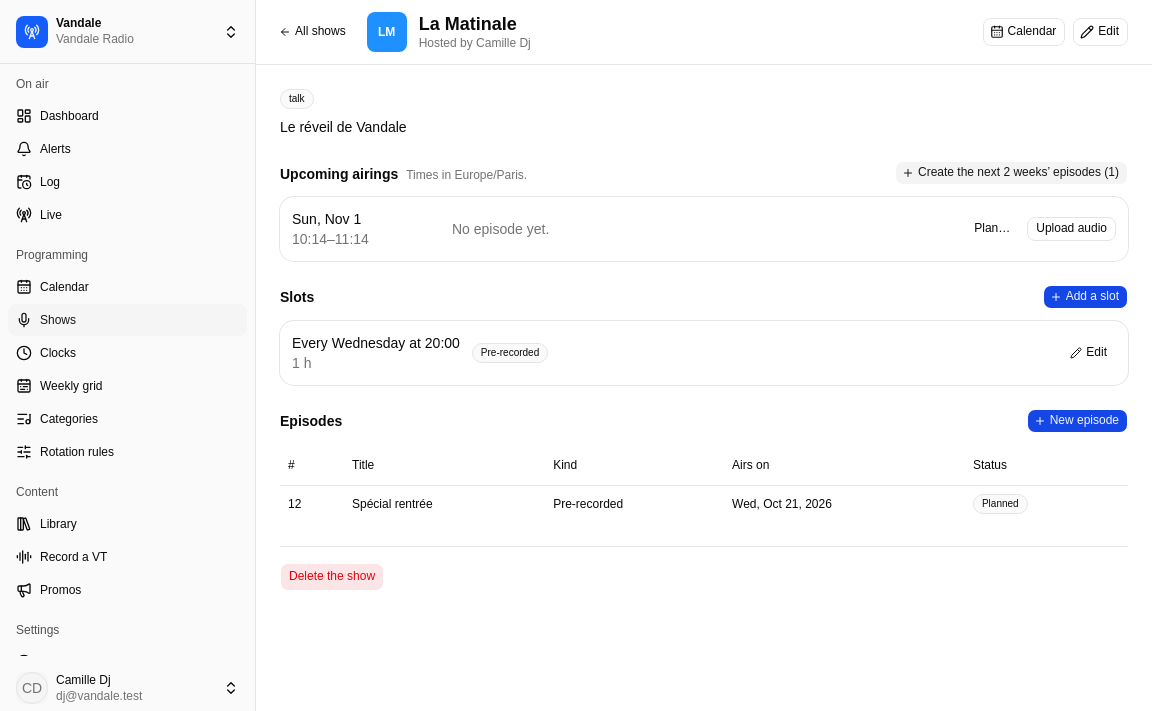
show page › warns when a slot edit detaches episodes, and lists them to plan again
Expected: the text "Every Wednesday at 20:00" is shown, [292,333,460,353]
Click the button "Edit" in the row of "Every Wednesday at 20:00". click: (1090, 353)
box: [1063,341,1116,365]
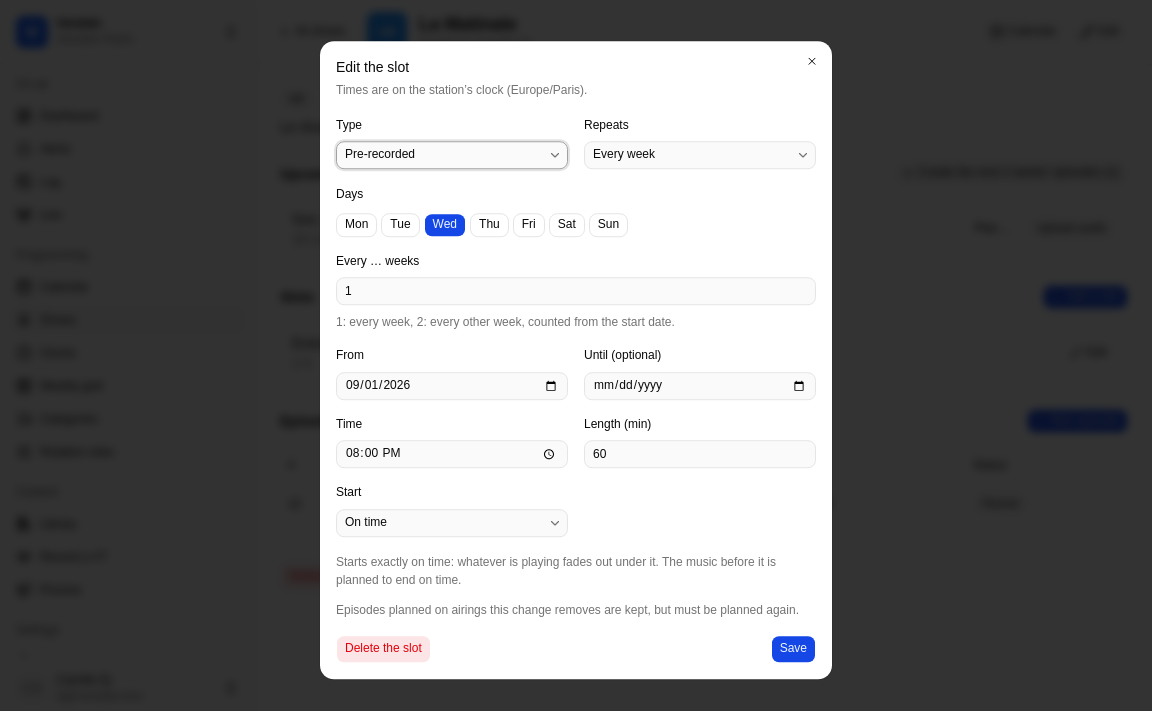
Click the button with aria-label "Wednesday". click: (445, 225)
box: [424,213,466,237]
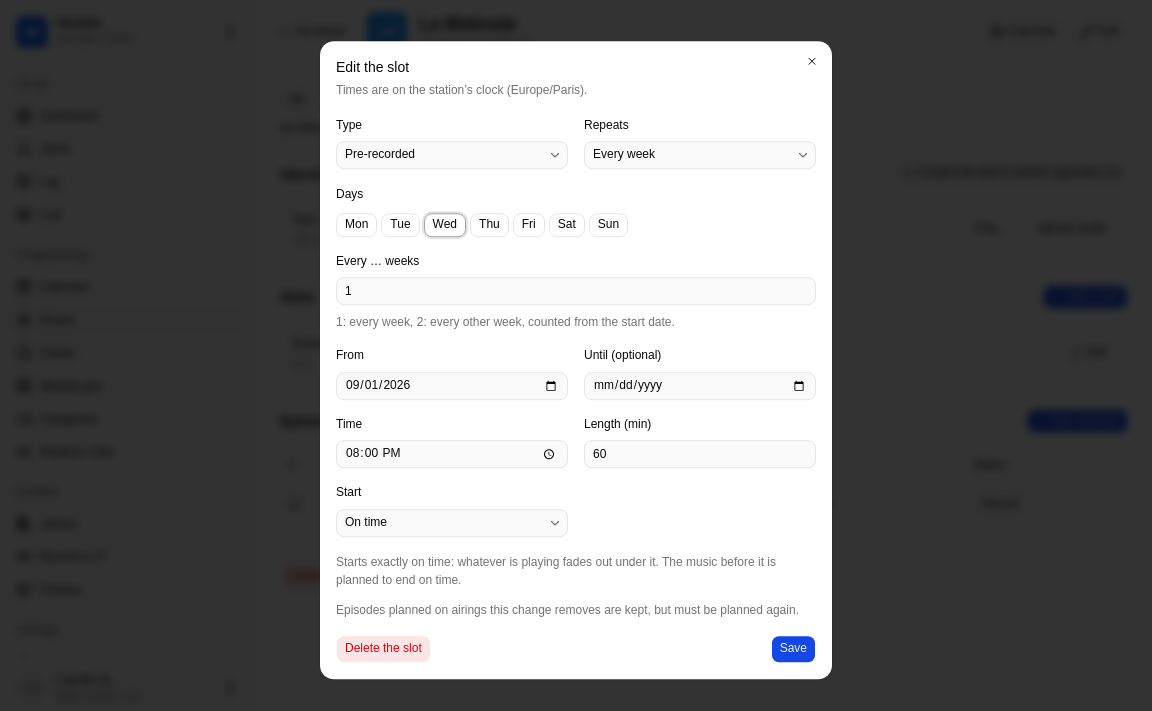
Click the button with aria-label "Thursday". click: (489, 225)
box: [470,213,509,237]
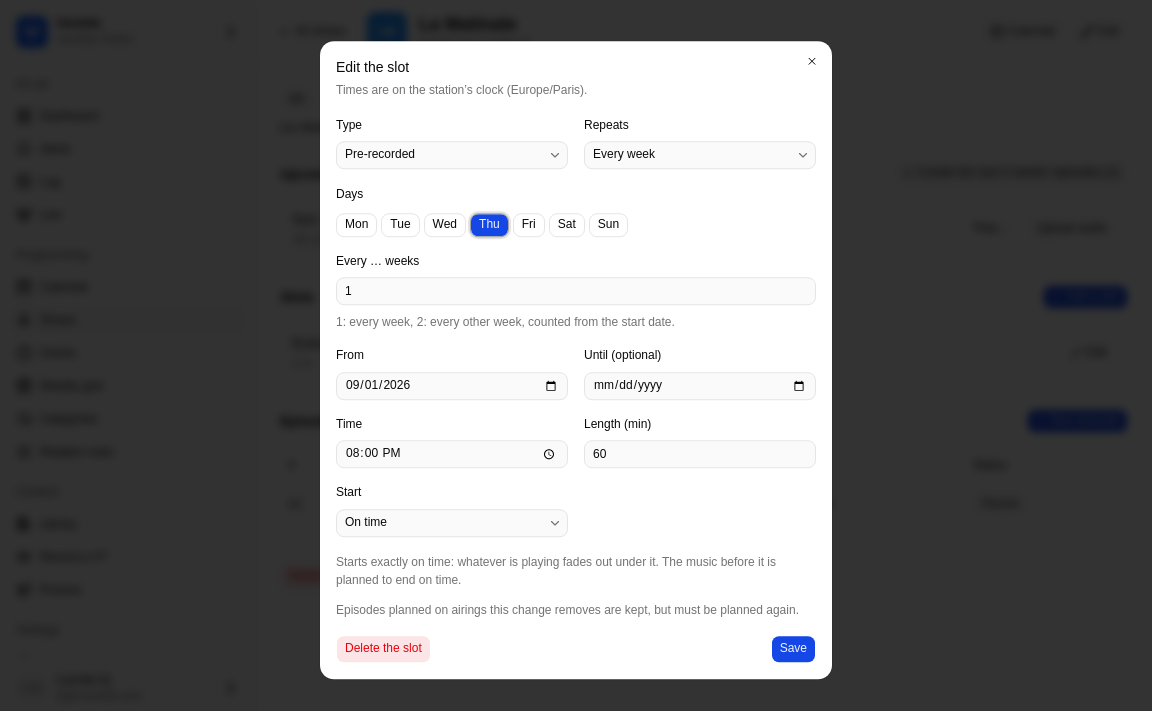
Click the button "Save". click: (793, 649)
box: [771,635,816,663]
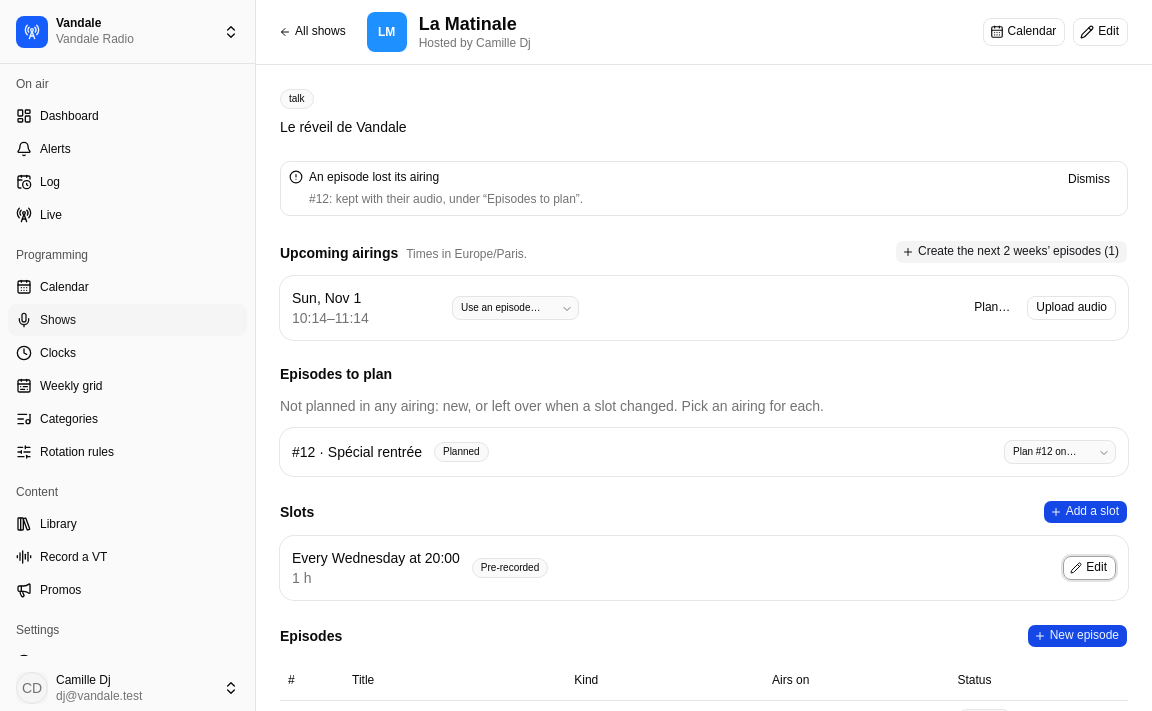
Result: the text "An episode lost its airing" is shown at [309,170,439,184]
Result: the text "#12: kept with their audio, under “Episodes to plan”." is shown at [309,192,583,206]
Result: the heading "Episodes to plan" is shown at [280,366,392,382]
